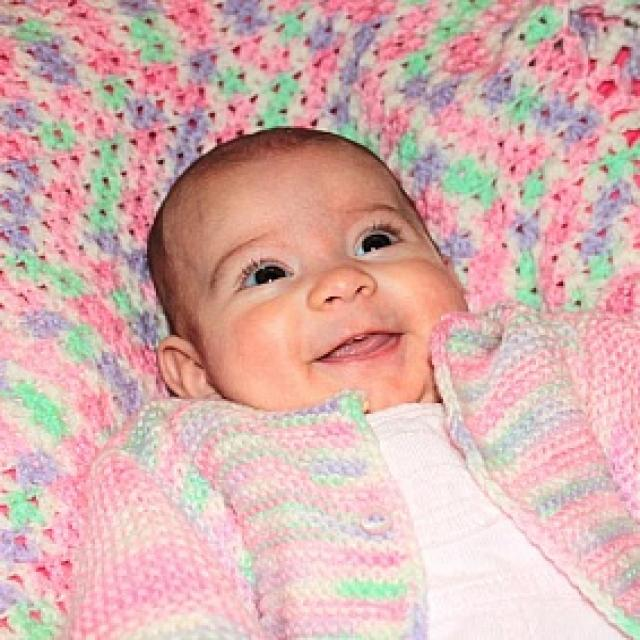Eyes: (213, 222, 411, 306)
